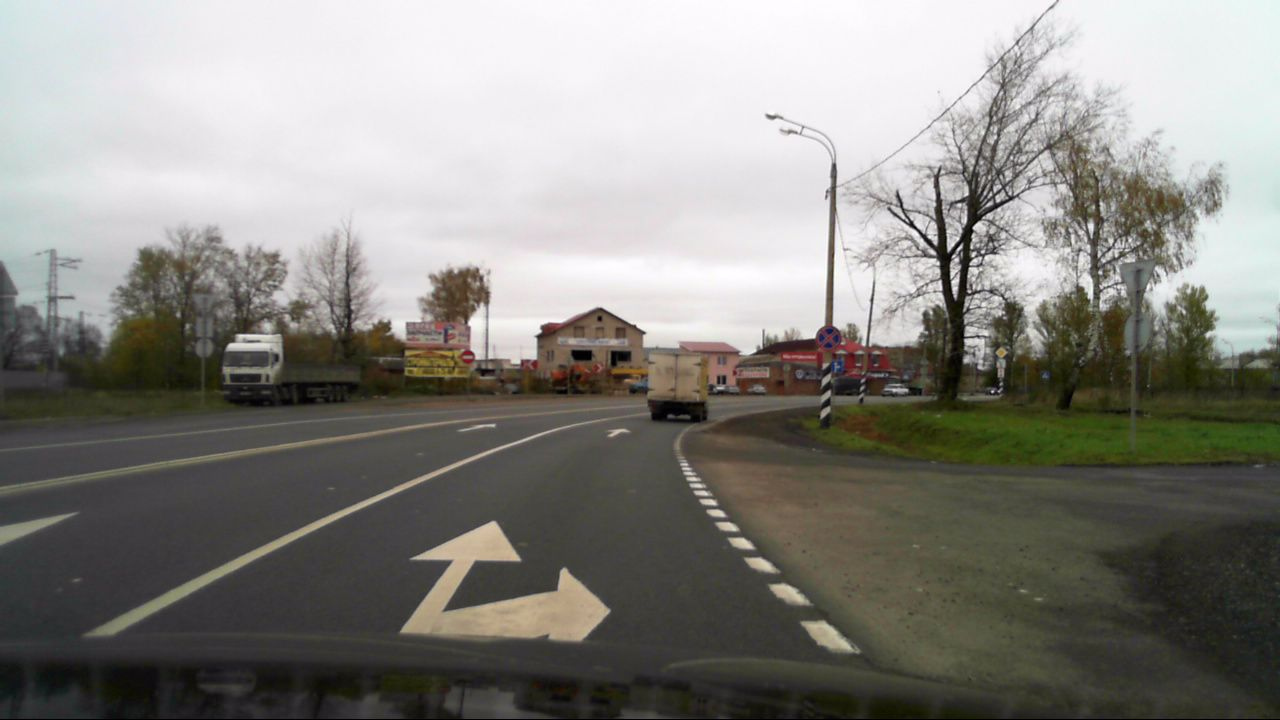No Parking: (816, 325, 841, 351)
